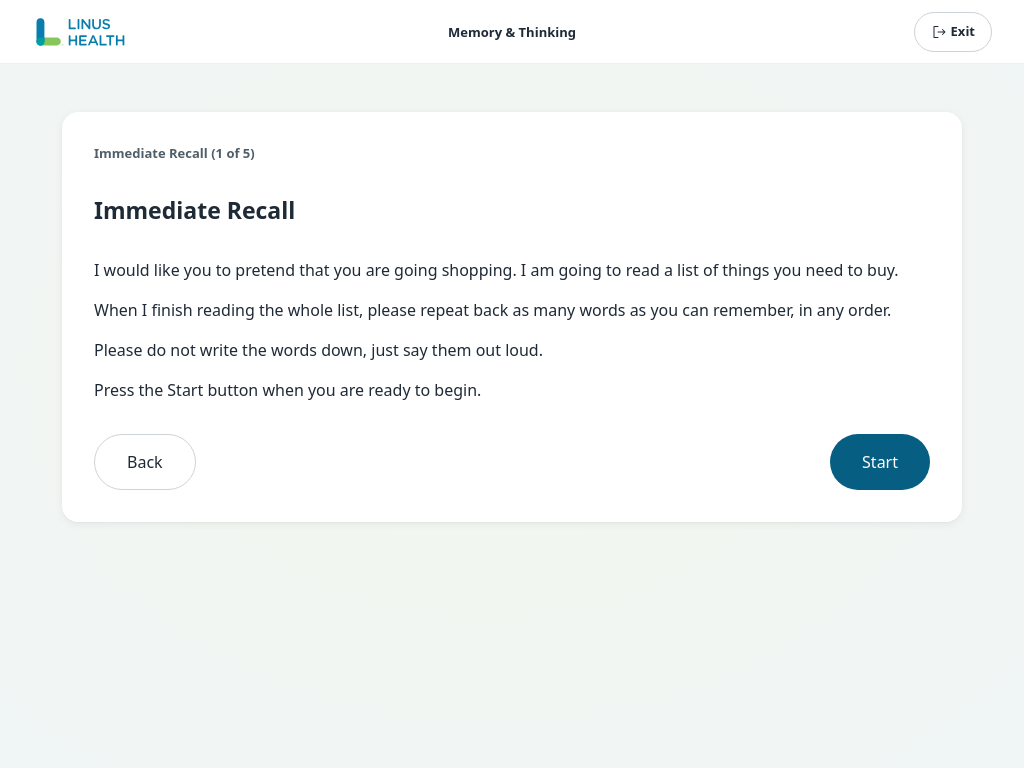
Test: MemoryThinkingTaskPage › Start advances from instructions to the Please listen step
Click the button "Start".
click(880, 462)  # box [830,434,930,490]
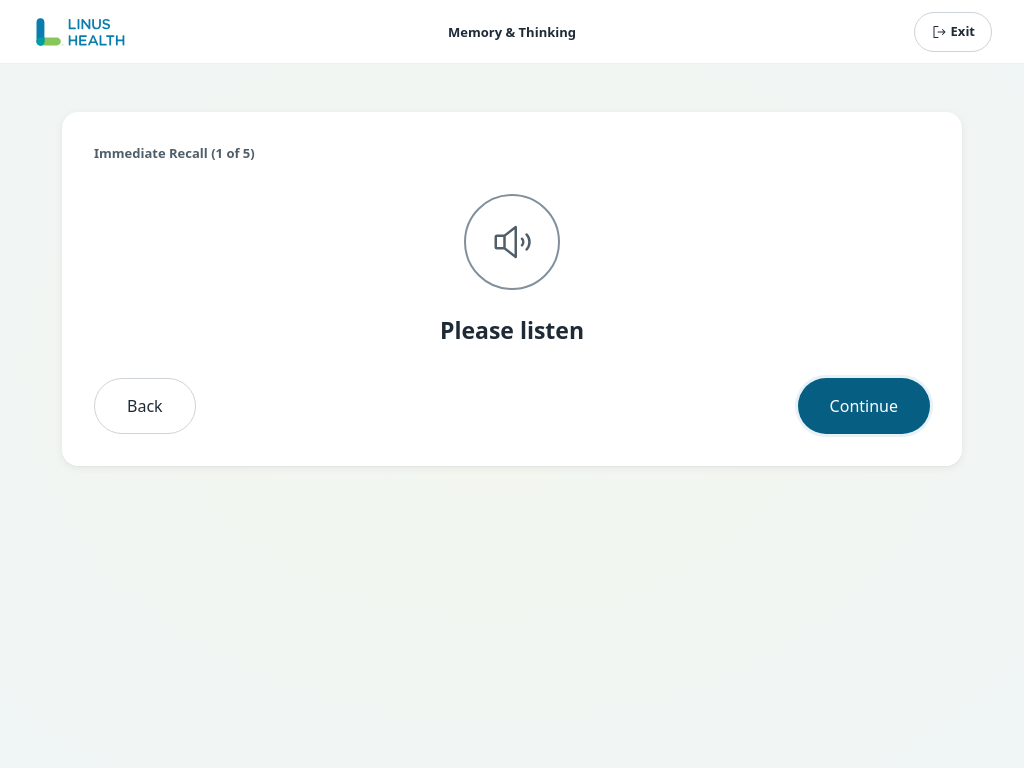
Now the heading "Please listen" is shown, box [440,314,584,346]
